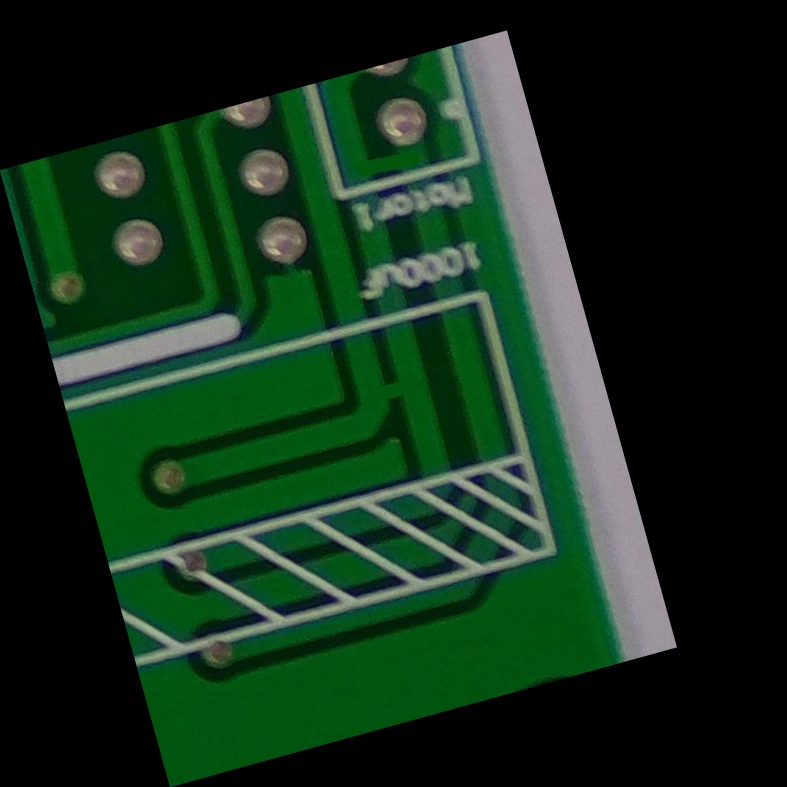short: (347, 352, 440, 436)
